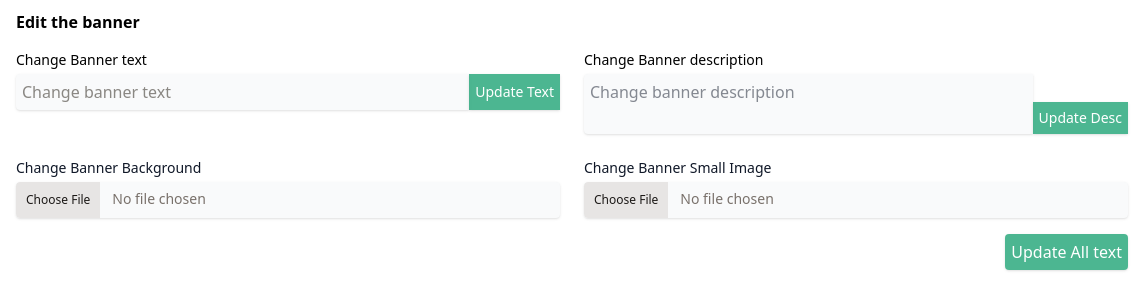
Test case: Form Component › enables the 'Update Text' button when bannerText is changed
In the field with placeholder "Change Banner text": (243,92) [16, 74, 469, 110], type "New Text"
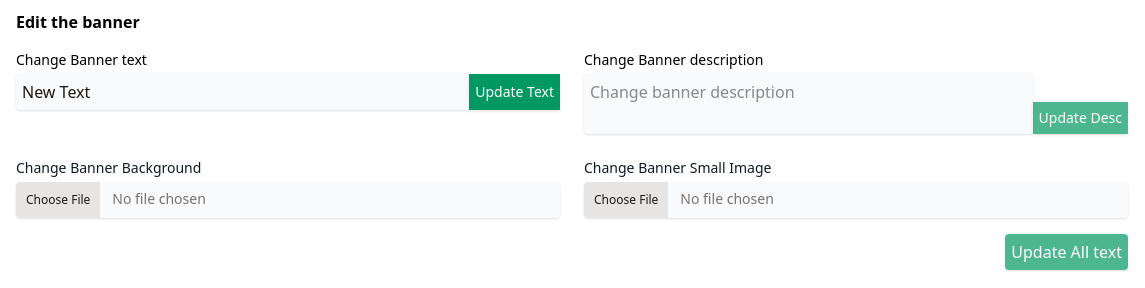
Expected: the button "Update Text" is enabled, [469, 74, 560, 110]
